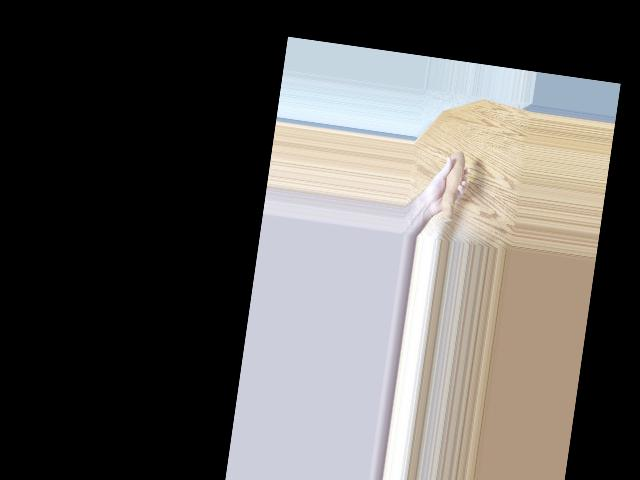sweet_potato: (430, 142, 469, 226)
